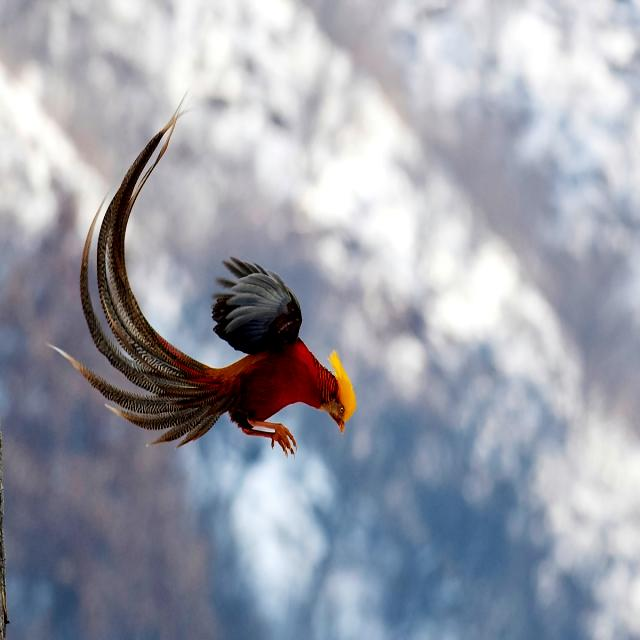Chrysolophus pictus feather: (58, 106, 240, 446)
